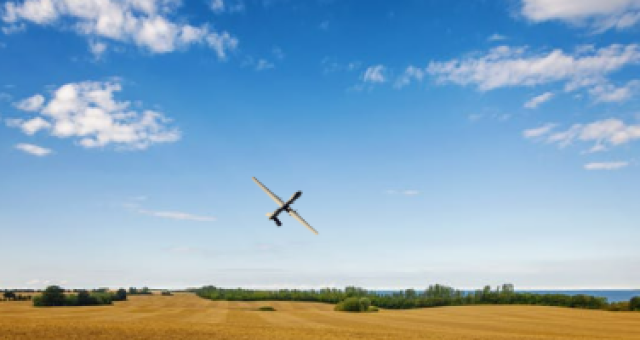military drone: (250, 175, 319, 236)
